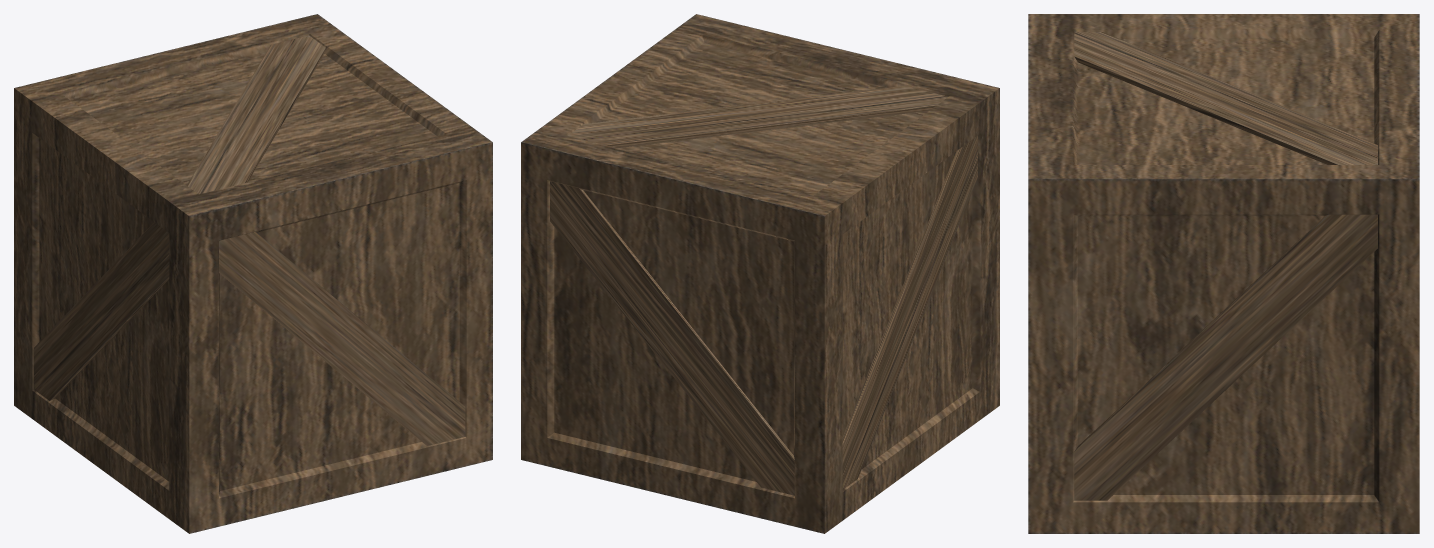
The model's file is SM_Crate.fbx.
3 views of the same model, side by side, from view 1: azimuth 30°, elevation 25°; view 2: azimuth 150°, elevation 25°; view 3: azimuth 270°, elevation 25° (orthographic). The views are drawn at different scales.
Parts seen in each view (by area): view 1: group_pasted__pCube2; view 2: group_pasted__pCube2; view 3: group_pasted__pCube2.
Part boxes in pixels (x1=…): group_pasted__pCube2: x1=14, y1=14, x2=492, y2=533; group_pasted__pCube2: x1=521, y1=14, x2=999, y2=533; group_pasted__pCube2: x1=1028, y1=14, x2=1419, y2=533.
Bounding box in the file's own units: 1.03 × 1.03 × 1.03.
Materials: 1 (1 with a texture image).
